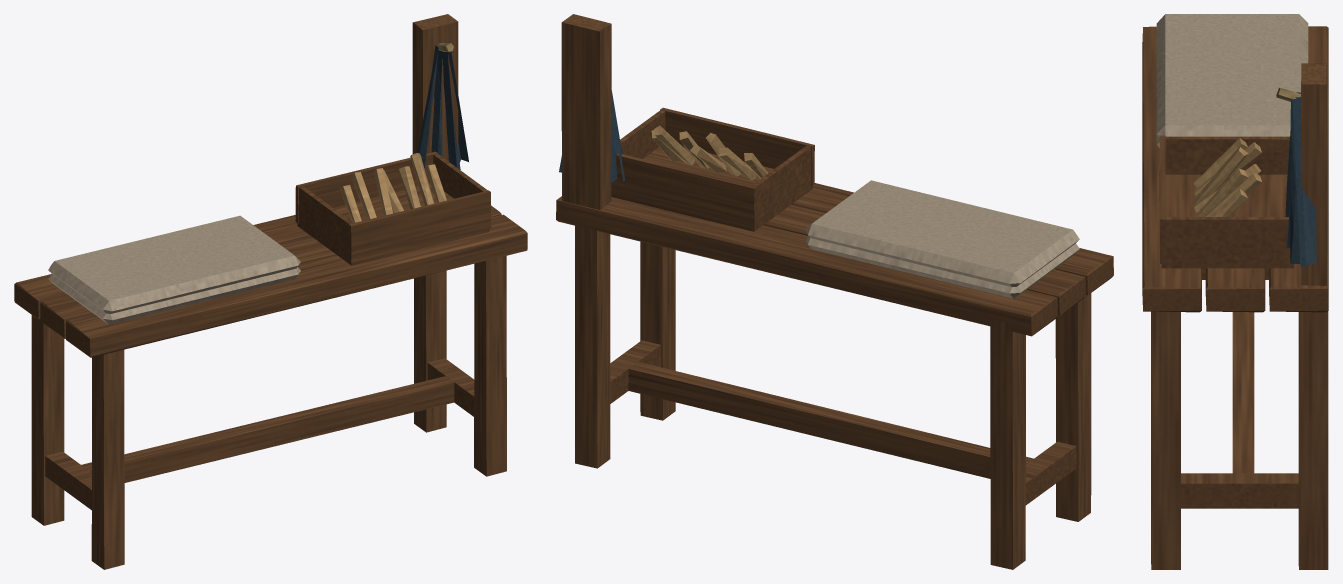
Rendered from TrialMendingBench_LOD2.fbx.
The picture shows the model from 3 angles, left to right: view 1: azimuth 30°, elevation 25°; view 2: azimuth 150°, elevation 25°; view 3: azimuth 270°, elevation 25°; orthographic projection. The views are drawn at different scales.
Visible parts, largest first — view 1: TrialMendingBench.001; view 2: TrialMendingBench.001; view 3: TrialMendingBench.001.
Part boxes in pixels (box(x1,y1,x2,y2)): TrialMendingBench.001: box(14, 14, 527, 569); TrialMendingBench.001: box(556, 14, 1113, 569); TrialMendingBench.001: box(1142, 14, 1328, 569).
Size of the model in its own units: 1.41 by 1.22 by 0.4182.
1 material, 1 textured.
